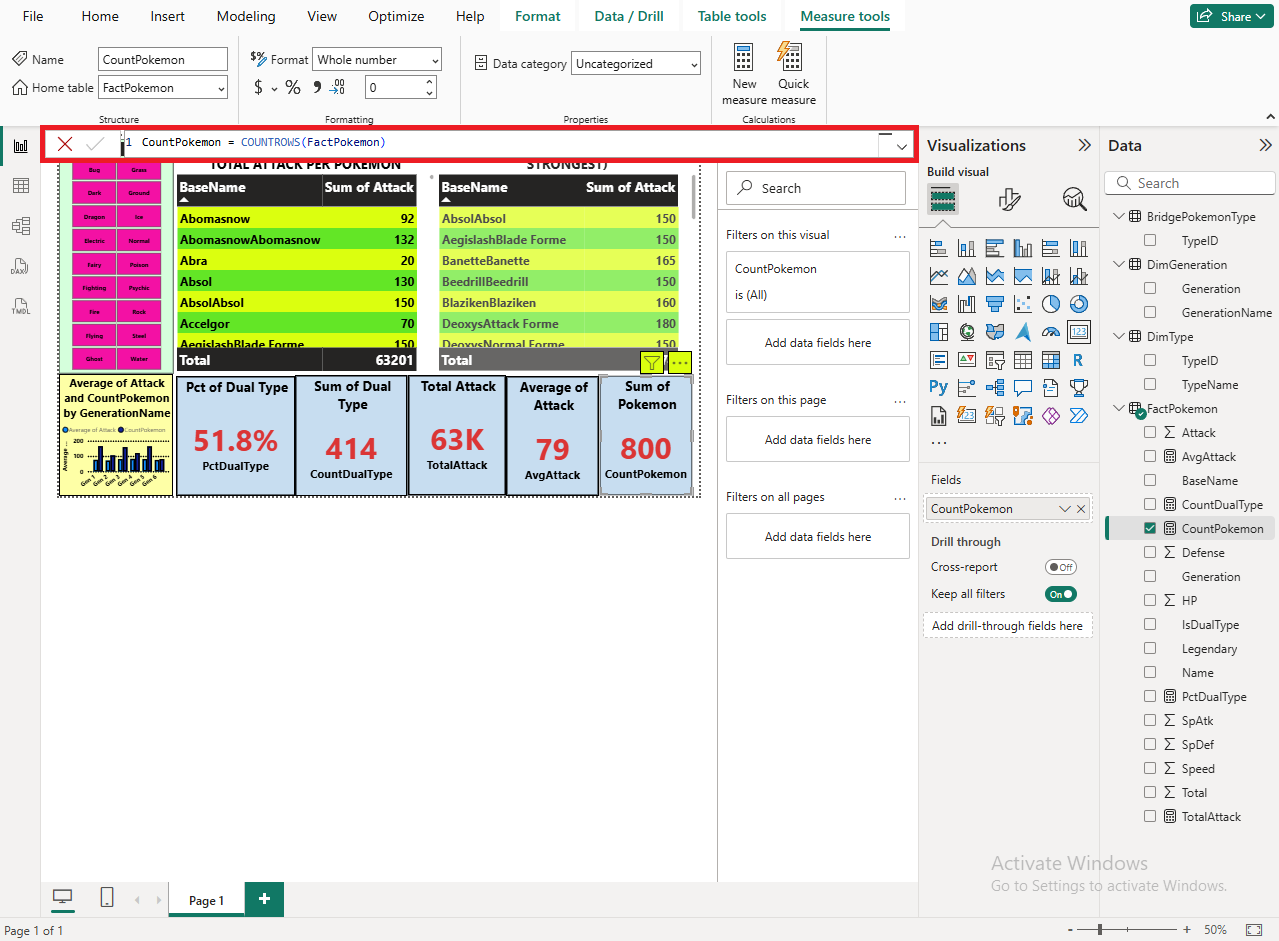

The dashboard page shown, as its layout file describes it:
{"tool":"powerbi","page":{"name":"Page 1","canvas":[1280,720],"ordinal":0},"visuals":[{"type":"slicer","fields":{"Values":["DimType.TypeName"]},"box":[0,5.8,228.8,469.2],"z":0},{"type":"tableEx","title":"TOTAL ATTACK PER POKEMON (TOP 20 STRONGEST)","fields":{"Values":["FactPokemon.BaseName","Sum(FactPokemon.Attack)"]},"box":[754.7,0,525.3,474.1],"z":1000},{"type":"tableEx","title":"TOTAL ATTACK PER POKEMON ","fields":{"Values":["FactPokemon.BaseName","Sum(FactPokemon.Attack)"]},"box":[229.4,35.3,525.5,439.2],"z":2000},{"type":"card","title":"Sum of Pokemon","fields":{"Values":["FactPokemon.CountPokemon"]},"box":[1078.4,478.4,188.2,241.2],"z":3000},{"type":"card","title":"Average of Attack","fields":{"Values":["FactPokemon.AvgAttack"]},"box":[893.7,479.1,185.6,240.5],"z":4000},{"type":"card","title":"Total Attack","fields":{"Values":["FactPokemon.TotalAttack"]},"box":[698,478.4,196.1,241.2],"z":5000},{"type":"card","title":"Sum of Dual Type","fields":{"Values":["FactPokemon.CountDualType"]},"box":[472.5,478.4,225.5,243.1],"z":6000},{"type":"card","title":"Pct of Dual Type","fields":{"Values":["FactPokemon.PctDualType"]},"box":[234.8,479.1,238.6,240.5],"z":7000},{"type":"clusteredColumnChart","fields":{"Y":["Avg(FactPokemon.Attack)","FactPokemon.CountPokemon"],"Category":["DimGeneration.GenerationName"]},"box":[0,474.1,235.1,244.6],"z":8000}]}

Visuals, with their boxes on the page's 1280x720 design canvas (x1, y1, x2, y2). These are canvas units, not pixel positions in the 1279x941 screenshot, which may show the page scaled, cropped or inside an application window:
slicer - DimType.TypeName: pyautogui.locateOnScreen(0, 6, 229, 475)
"TOTAL ATTACK PER POKEMON (TOP 20 STRONGEST)" tableEx: pyautogui.locateOnScreen(755, 0, 1280, 474)
"TOTAL ATTACK PER POKEMON " tableEx: pyautogui.locateOnScreen(229, 35, 755, 474)
"Sum of Pokemon" card: pyautogui.locateOnScreen(1078, 478, 1267, 720)
"Average of Attack" card: pyautogui.locateOnScreen(894, 479, 1079, 720)
"Total Attack" card: pyautogui.locateOnScreen(698, 478, 894, 720)
"Sum of Dual Type" card: pyautogui.locateOnScreen(472, 478, 698, 722)
"Pct of Dual Type" card: pyautogui.locateOnScreen(235, 479, 473, 720)
clusteredColumnChart - Avg(FactPokemon.Attack) x FactPokemon.CountPokemon: pyautogui.locateOnScreen(0, 474, 235, 719)
